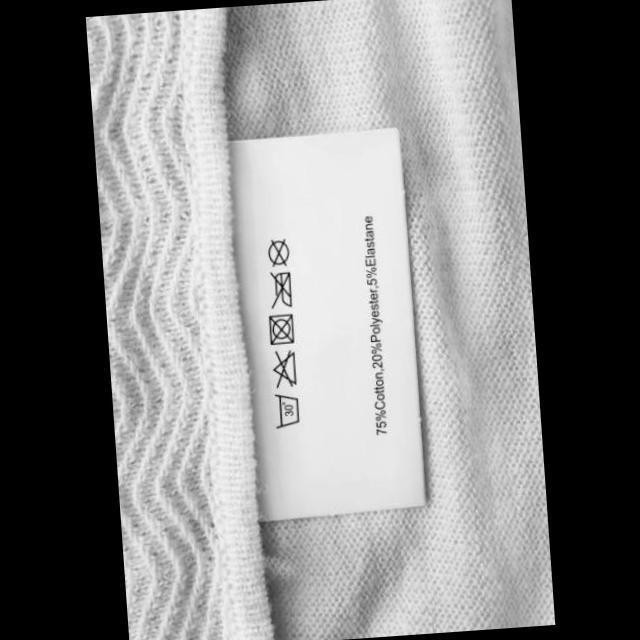30C: (270, 388, 302, 431)
DN_bleach: (268, 346, 300, 389)
DN_dry_clean: (264, 236, 292, 268)
DN_iron: (265, 266, 296, 311)
DN_tumble_dry: (264, 309, 297, 346)
